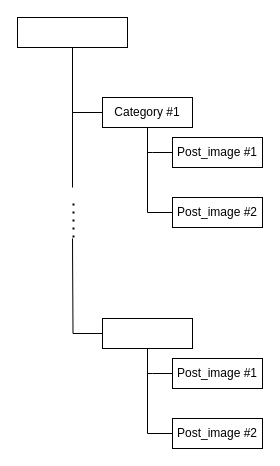
Image size: 280x466. Some labels were removed from this diagram. The shapes that lost their labels are listed below. From the top down, each one's centre as x and y in pixels, then its label:
At [72,32]: "Post_Storage".
At [147,333]: "Category #N".
